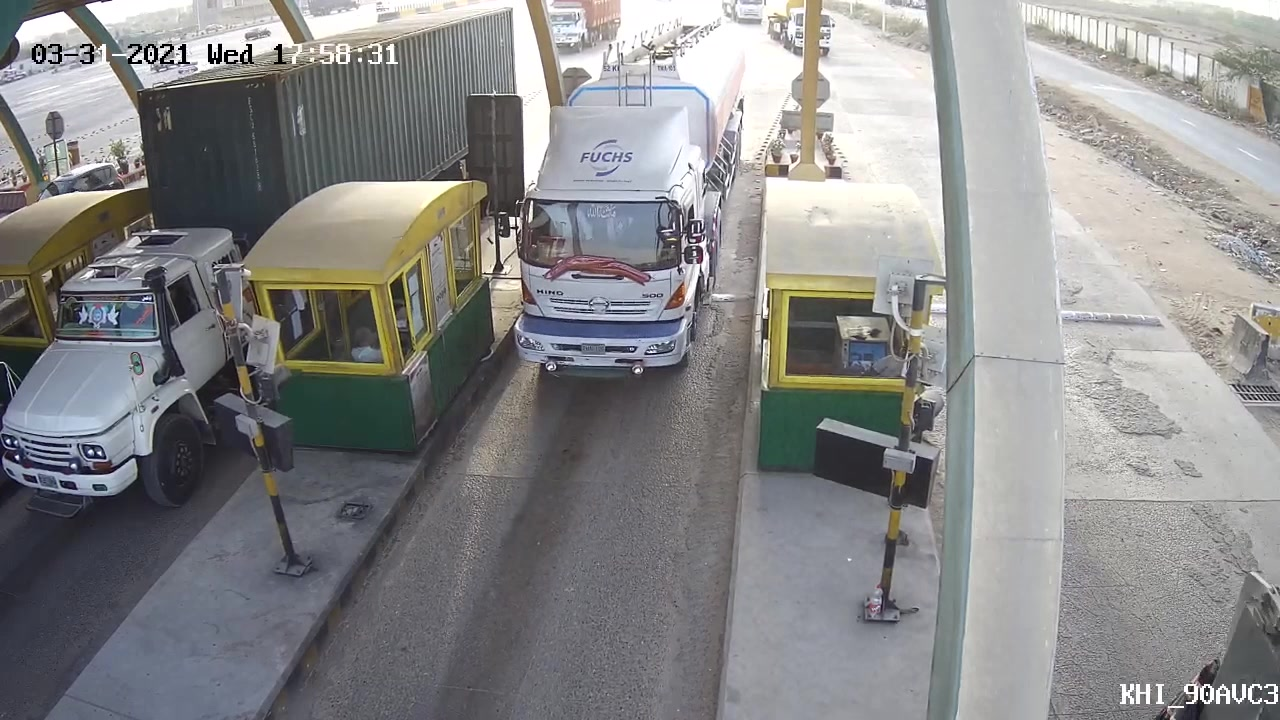F6: (505, 18, 755, 381)
